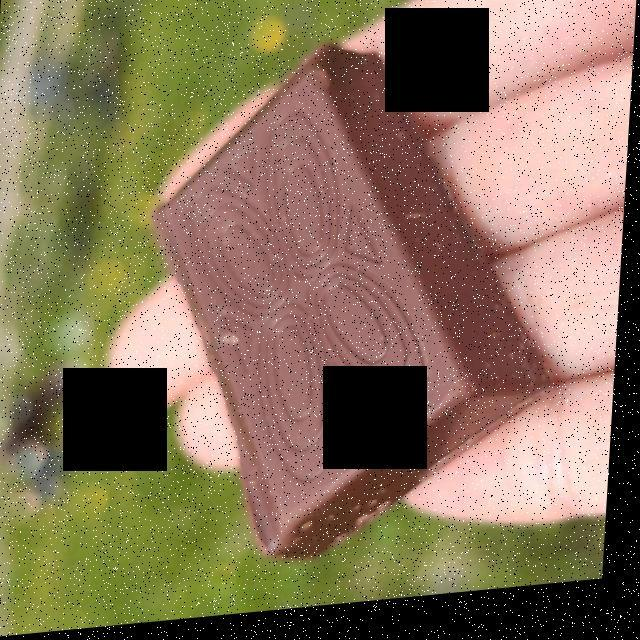chocolate: (176, 57, 524, 565)
